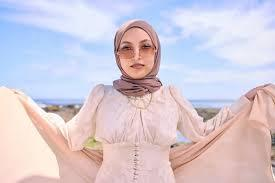scarf-kerchief: (106, 16, 166, 101)
sunglasses: (115, 45, 157, 61)
